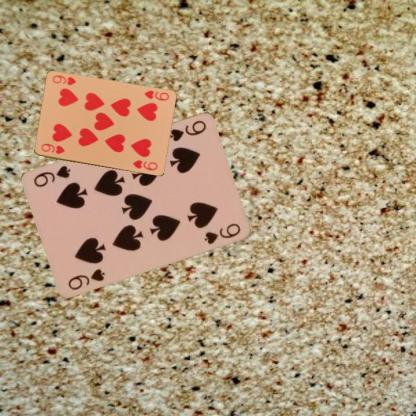9h: (141, 88, 170, 102), (38, 141, 66, 155)
9s: (167, 117, 207, 143), (66, 266, 106, 291)
